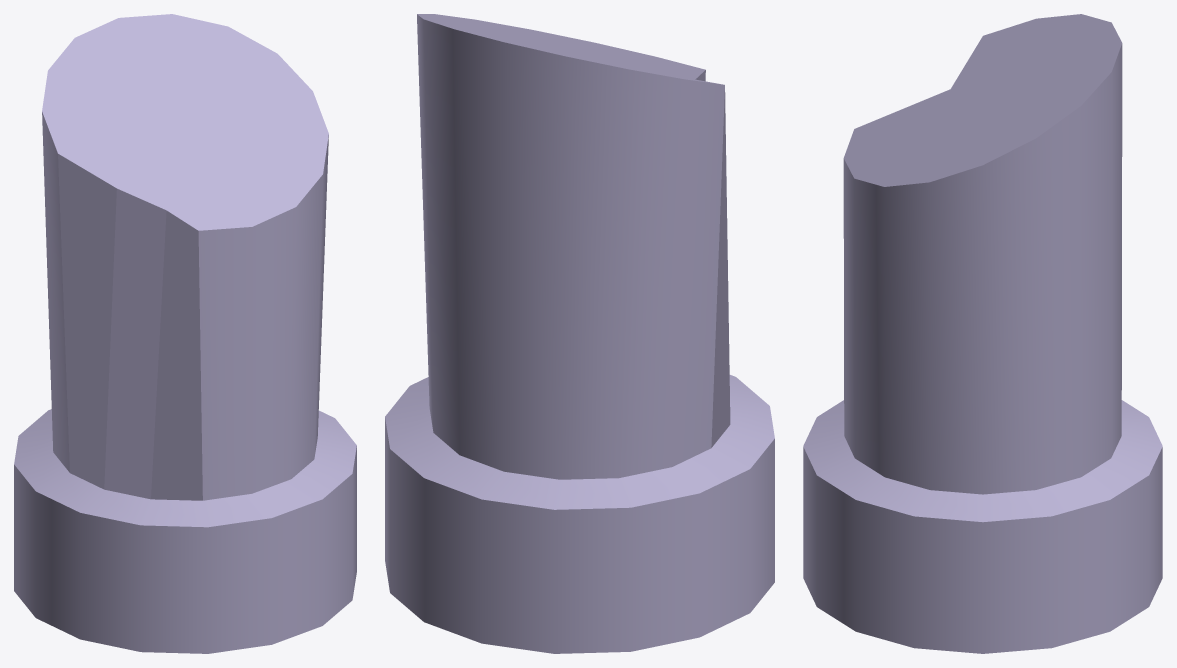
Rendered from BrokenPillar.fbx.
The picture shows the model from 3 angles, left to right: view 1: azimuth 30°, elevation 25°; view 2: azimuth 150°, elevation 25°; view 3: azimuth 270°, elevation 25°; orthographic projection. The views are drawn at different scales.
Parts seen in each view (by area): view 1: BrokenPillar; view 2: BrokenPillar; view 3: BrokenPillar.
Boxes of the visible parts, x1,y1,x2,y2 form: BrokenPillar: (14,14,356,653); BrokenPillar: (385,14,774,653); BrokenPillar: (803,14,1162,653).
Bounding box in the file's own units: 259 × 425 × 259.
